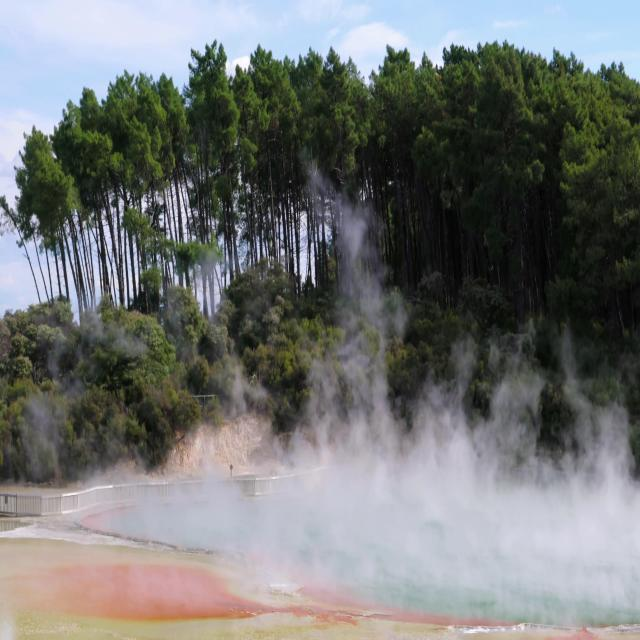Smoke: (130, 247, 631, 640)
